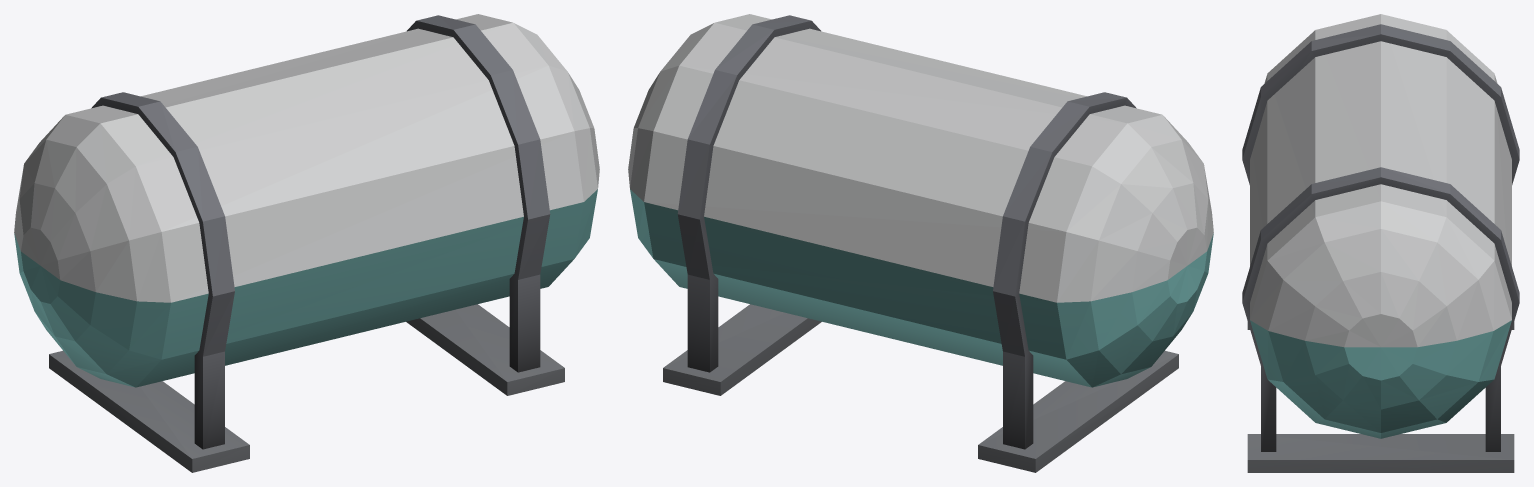
The model's file is htank.glb.
3 renders of one model, left to right at view 1: azimuth 30°, elevation 25°; view 2: azimuth 150°, elevation 25°; view 3: azimuth 270°, elevation 25°, orthographic. The views are drawn at different scales.
Visible parts, largest first — view 1: htank; view 2: htank; view 3: htank.
Part boxes in pixels (bbox=[...]): htank: bbox=[14, 14, 599, 472]; htank: bbox=[628, 14, 1213, 472]; htank: bbox=[1242, 14, 1519, 472].
Bounding box in the file's own units: 4.32 × 2.4 × 2.1.
